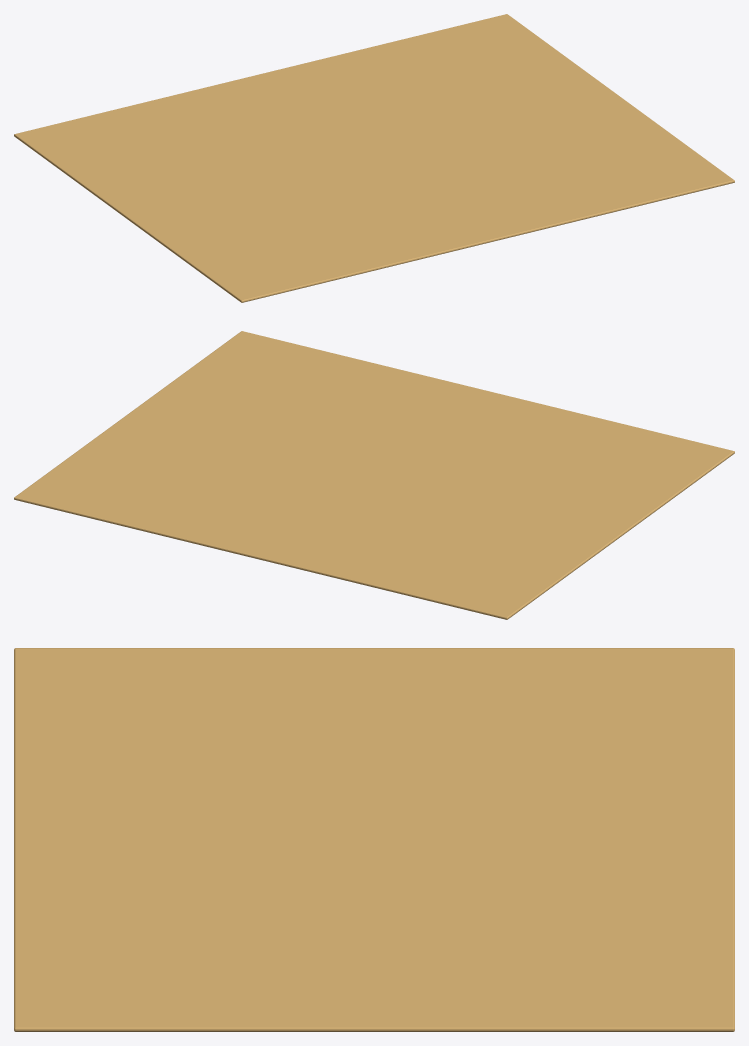
Rendered from playground_surface.glb.
3 views of the same model, one above another, from view 1: azimuth 30°, elevation 25°; view 2: azimuth 150°, elevation 25°; view 3: azimuth 270°, elevation 25° (orthographic). The views are drawn at different scales.
Visible parts, largest first — view 1: playground_surface_Mesh; view 2: playground_surface_Mesh; view 3: playground_surface_Mesh.
Part boxes in pixels (x1,y1,x2,y2): playground_surface_Mesh: (14,14,734,302); playground_surface_Mesh: (14,331,734,619); playground_surface_Mesh: (14,648,734,1031).
Bounding box in the file's own units: 10 × 0.05 × 8.
